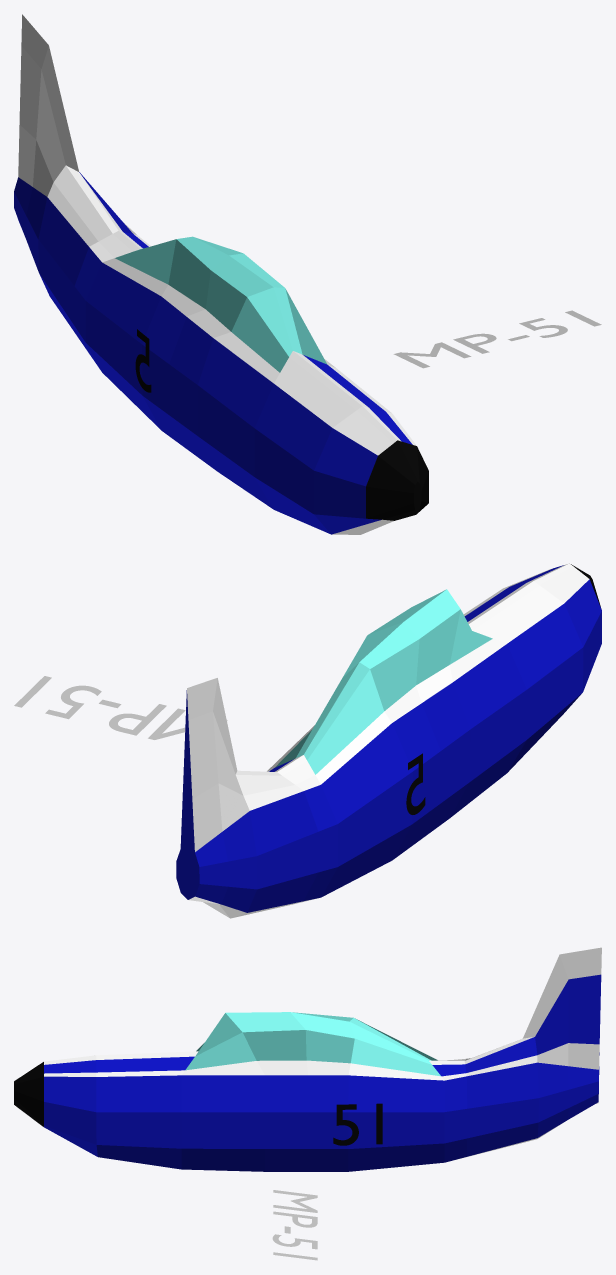
File: 4misc-avion1.obj
3 renders of one model, top to bottom at view 1: azimuth 30°, elevation 25°; view 2: azimuth 150°, elevation 25°; view 3: azimuth 270°, elevation 25°, orthographic. The views are drawn at different scales.
Parts seen in each view (by area): view 1: Coqpit, Text; view 2: Coqpit, Text, Text.002; view 3: Coqpit, Text, Text.001.
Boxes of the visible parts, x1,y1,x2,y2 form: Coqpit: (14,14,428,534); Text: (393,310,601,368); Coqpit: (176,563,601,918); Text: (14,676,227,739); Text.002: (406,753,425,814); Coqpit: (14,947,601,1171); Text: (272,1190,317,1260); Text.001: (333,1103,382,1145).
Bounding box in the file's own units: 5.38 × 3.71 × 8.94.
